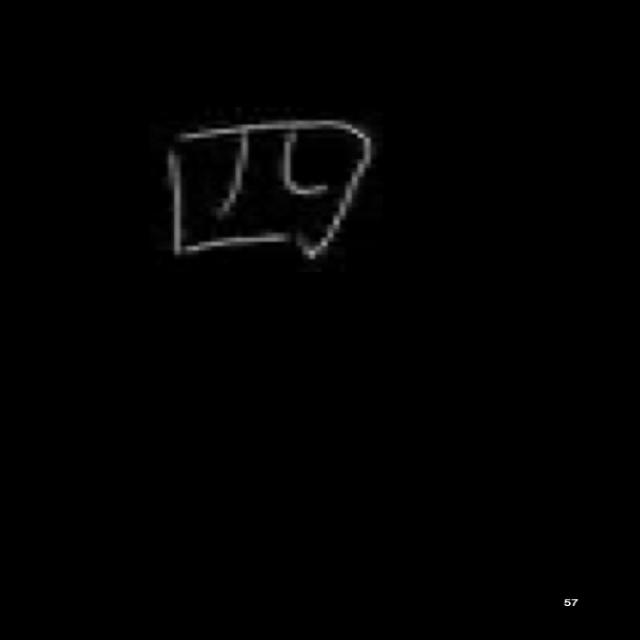4 -four-: (140, 109, 387, 282)
